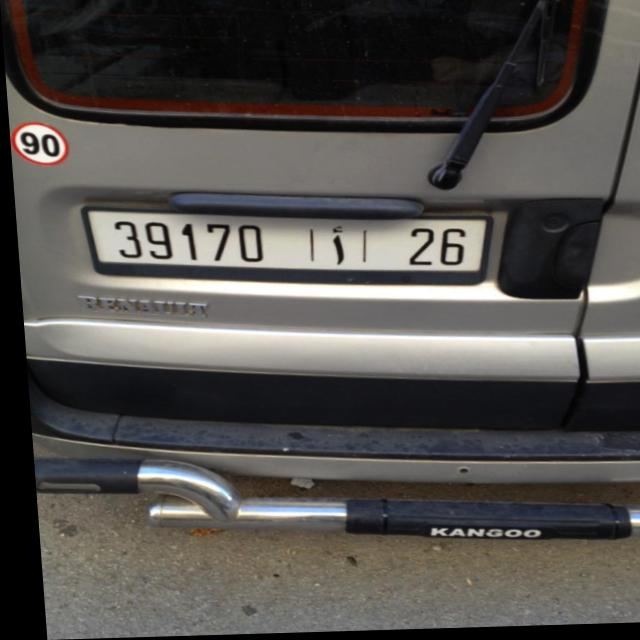License-Plate: (81, 208, 487, 286)
